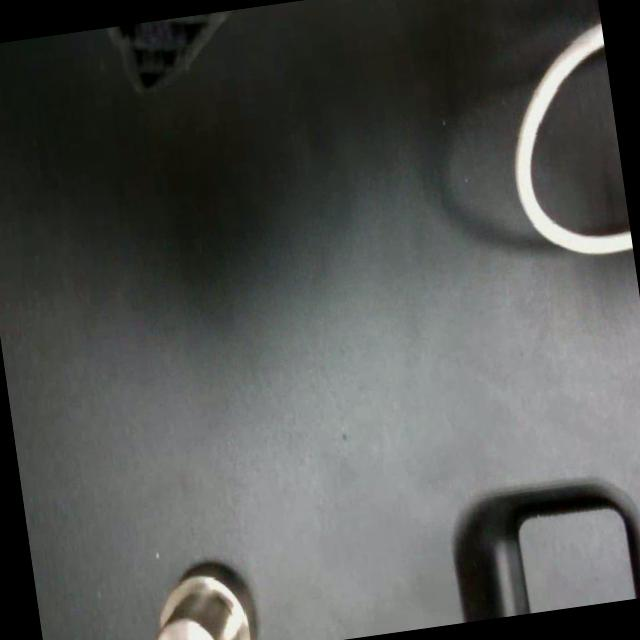sensor: (133, 562, 254, 640)
